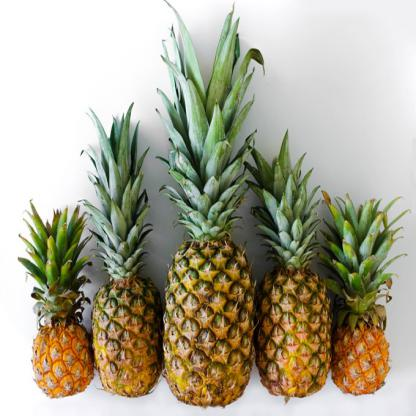pineapple: (155, 0, 266, 408), (243, 128, 333, 398), (82, 102, 163, 398), (319, 193, 412, 396), (18, 199, 93, 398)
